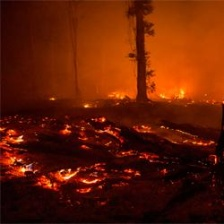fire: (2, 112, 214, 211), (89, 63, 222, 105)
